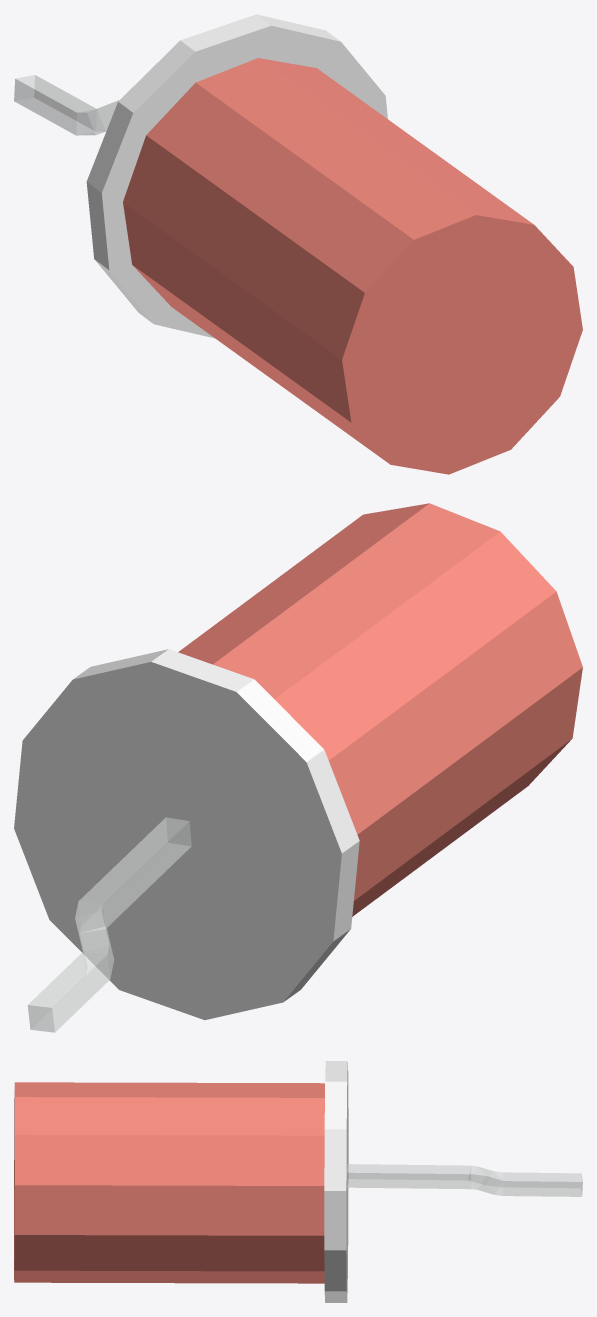
The model's file is cup.fbx.
3 renders of one model, top to bottom at view 1: azimuth 30°, elevation 25°; view 2: azimuth 150°, elevation 25°; view 3: azimuth 270°, elevation 25°, orthographic. The views are drawn at different scales.
Parts seen in each view (by area): view 1: cup, cap, tube; view 2: cap, cup, tube; view 3: cup, cap, tube.
Part boxes in pixels (x1,y1,x2,y2): cup: (123, 58, 582, 474); cap: (86, 14, 387, 338); tube: (14, 75, 119, 135); cap: (14, 649, 359, 1020); cup: (178, 503, 582, 916); tube: (27, 817, 191, 1032); cup: (14, 1082, 324, 1283); cap: (324, 1061, 348, 1302); tube: (347, 1164, 582, 1196).
Size of the model in its own units: 35.84 by 35.82 by 85.12.
